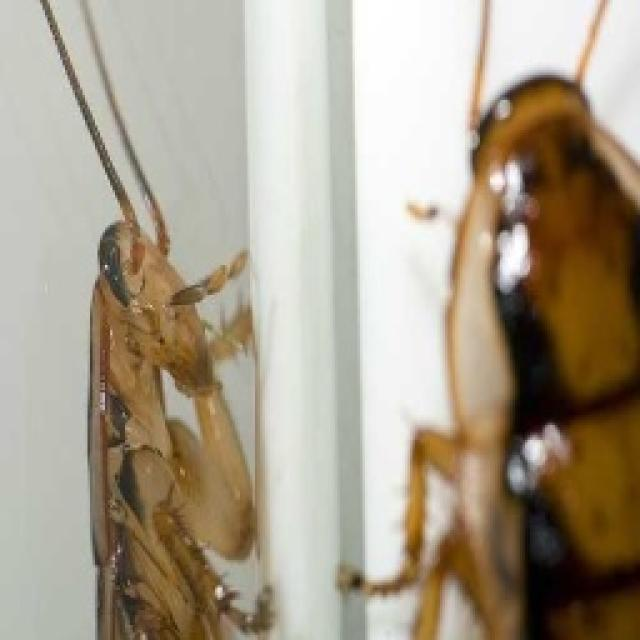cockroach: (404, 45, 639, 640), (0, 159, 258, 640)
